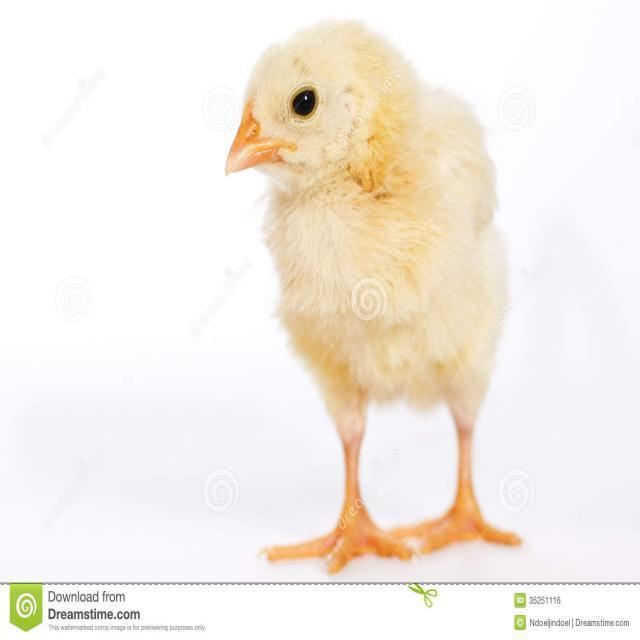poussin: (216, 16, 514, 568)
